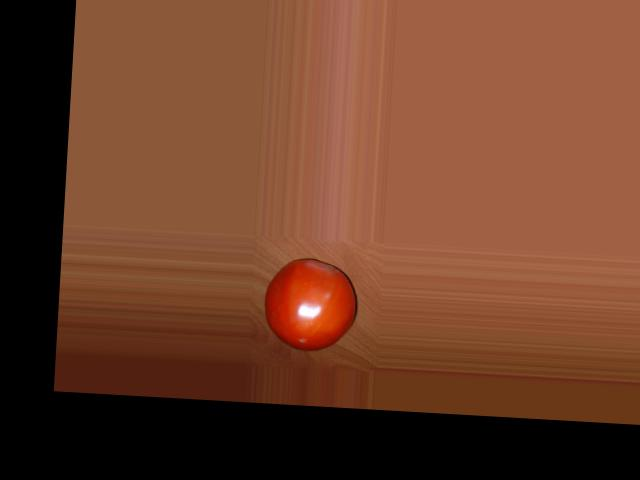tomato: (260, 256, 359, 353)
